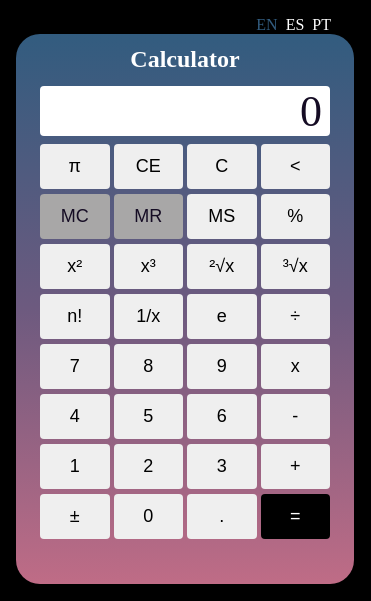
CalculatorContainer › renders the calculator shell and switches languages
Expected: the element showing "Calculator 0" is shown, x1=40 y1=34 x2=330 y2=144
Expected: the element showing "EN ES PT" is shown, x1=256 y1=16 x2=331 y2=33
Click the link with class "calculator-language-ES": (295, 25) x1=286 y1=16 x2=304 y2=34
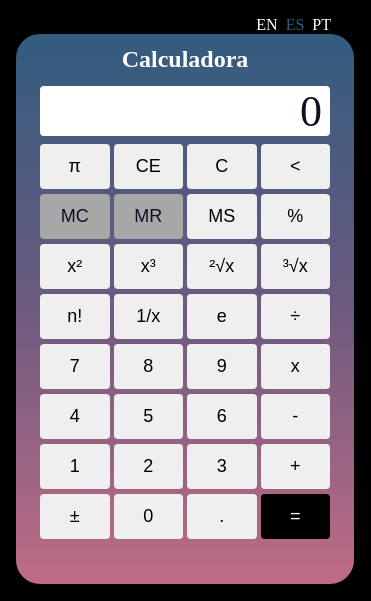
Expected: the text with class "calculator-content-header-title" reads "Calculadora", x1=122 y1=46 x2=248 y2=72
Click the link with class "calculator-language-PT": (322, 25) x1=312 y1=16 x2=331 y2=34
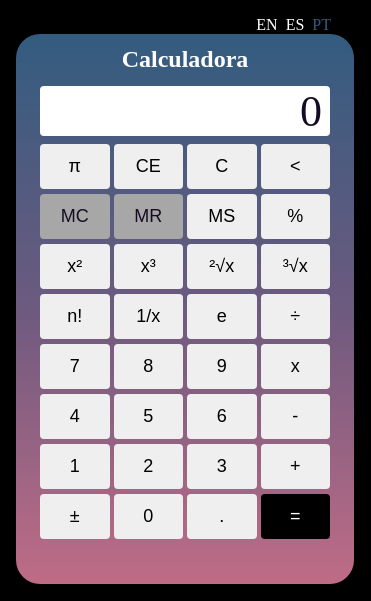
Expected: the text with class "calculator-content-header-title" reads "Calculadora", x1=122 y1=46 x2=248 y2=72
Click the link with class "calculator-language-EN": (267, 25) x1=256 y1=16 x2=278 y2=34
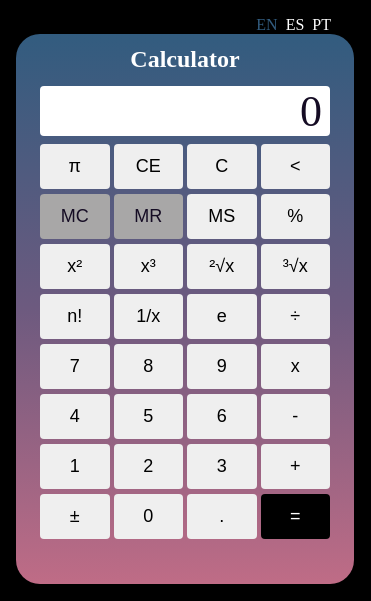
Expected: the text with class "calculator-content-header-title" reads "Calculator", x1=130 y1=46 x2=240 y2=72
